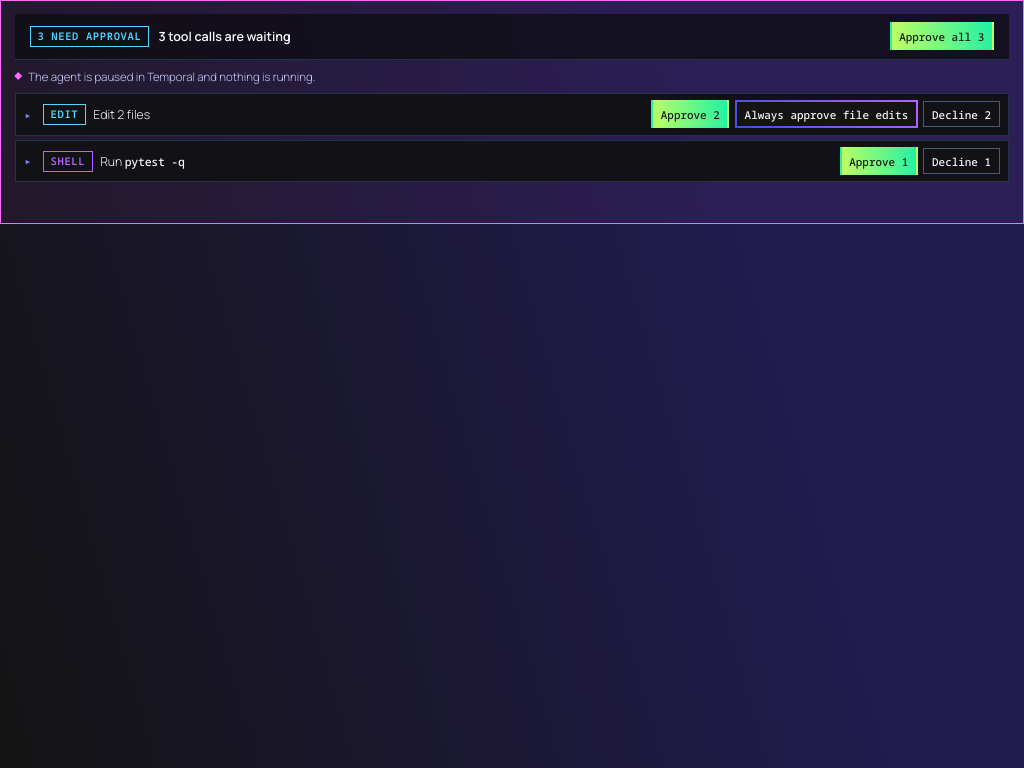
approval card in a browser › M1a: an answered row keeps its place with a badge only; the card shows one trail, in its footer
Click the button "▸ Edit Edit 2 files" at (87, 114), box top-left (24, 100), bottom-right (150, 128)
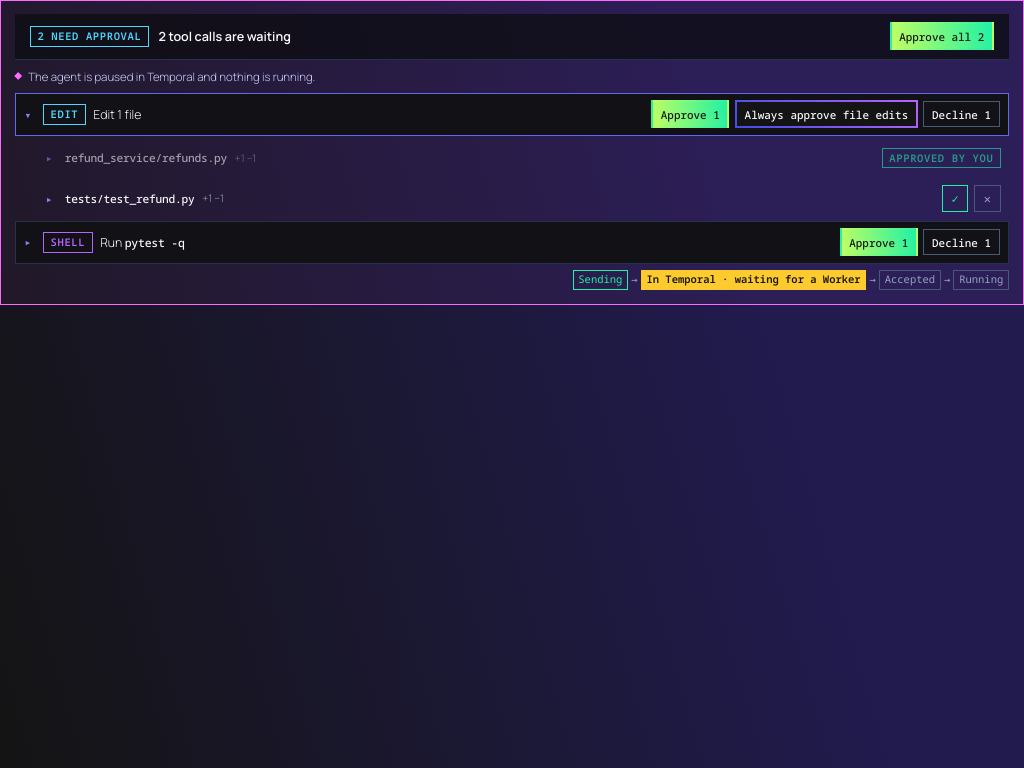
Now the element showing "▸ refund_service/refunds.py +1 −1 Approved by you" is shown, box top-left (37, 140), bottom-right (1009, 176)
Now the number of lists with class "sendstate" is 1, box top-left (573, 270), bottom-right (1009, 290)
